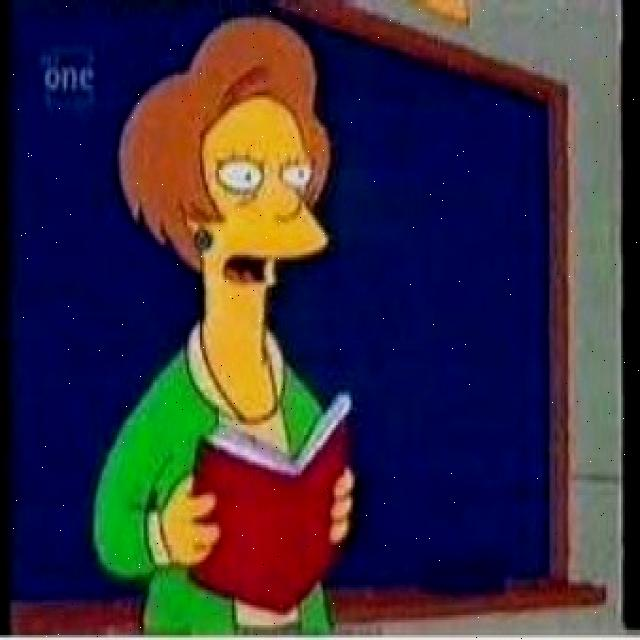Edna Krappel: (112, 11, 334, 409)
